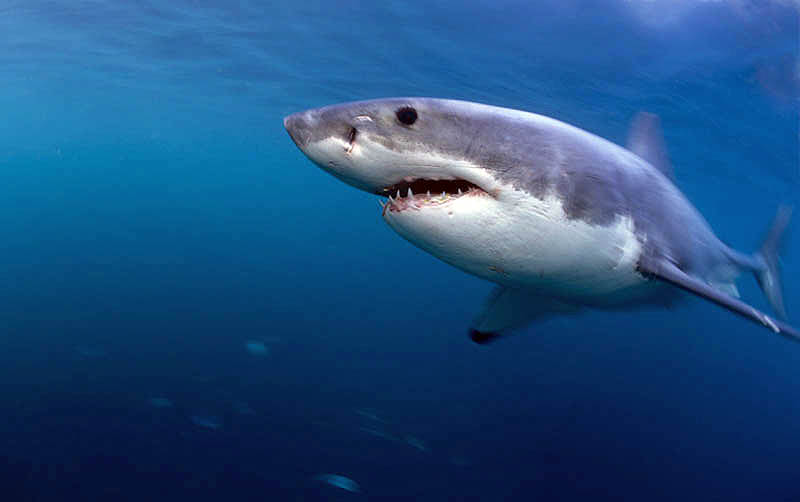Carcharodon_carcharias: (270, 67, 797, 364)
